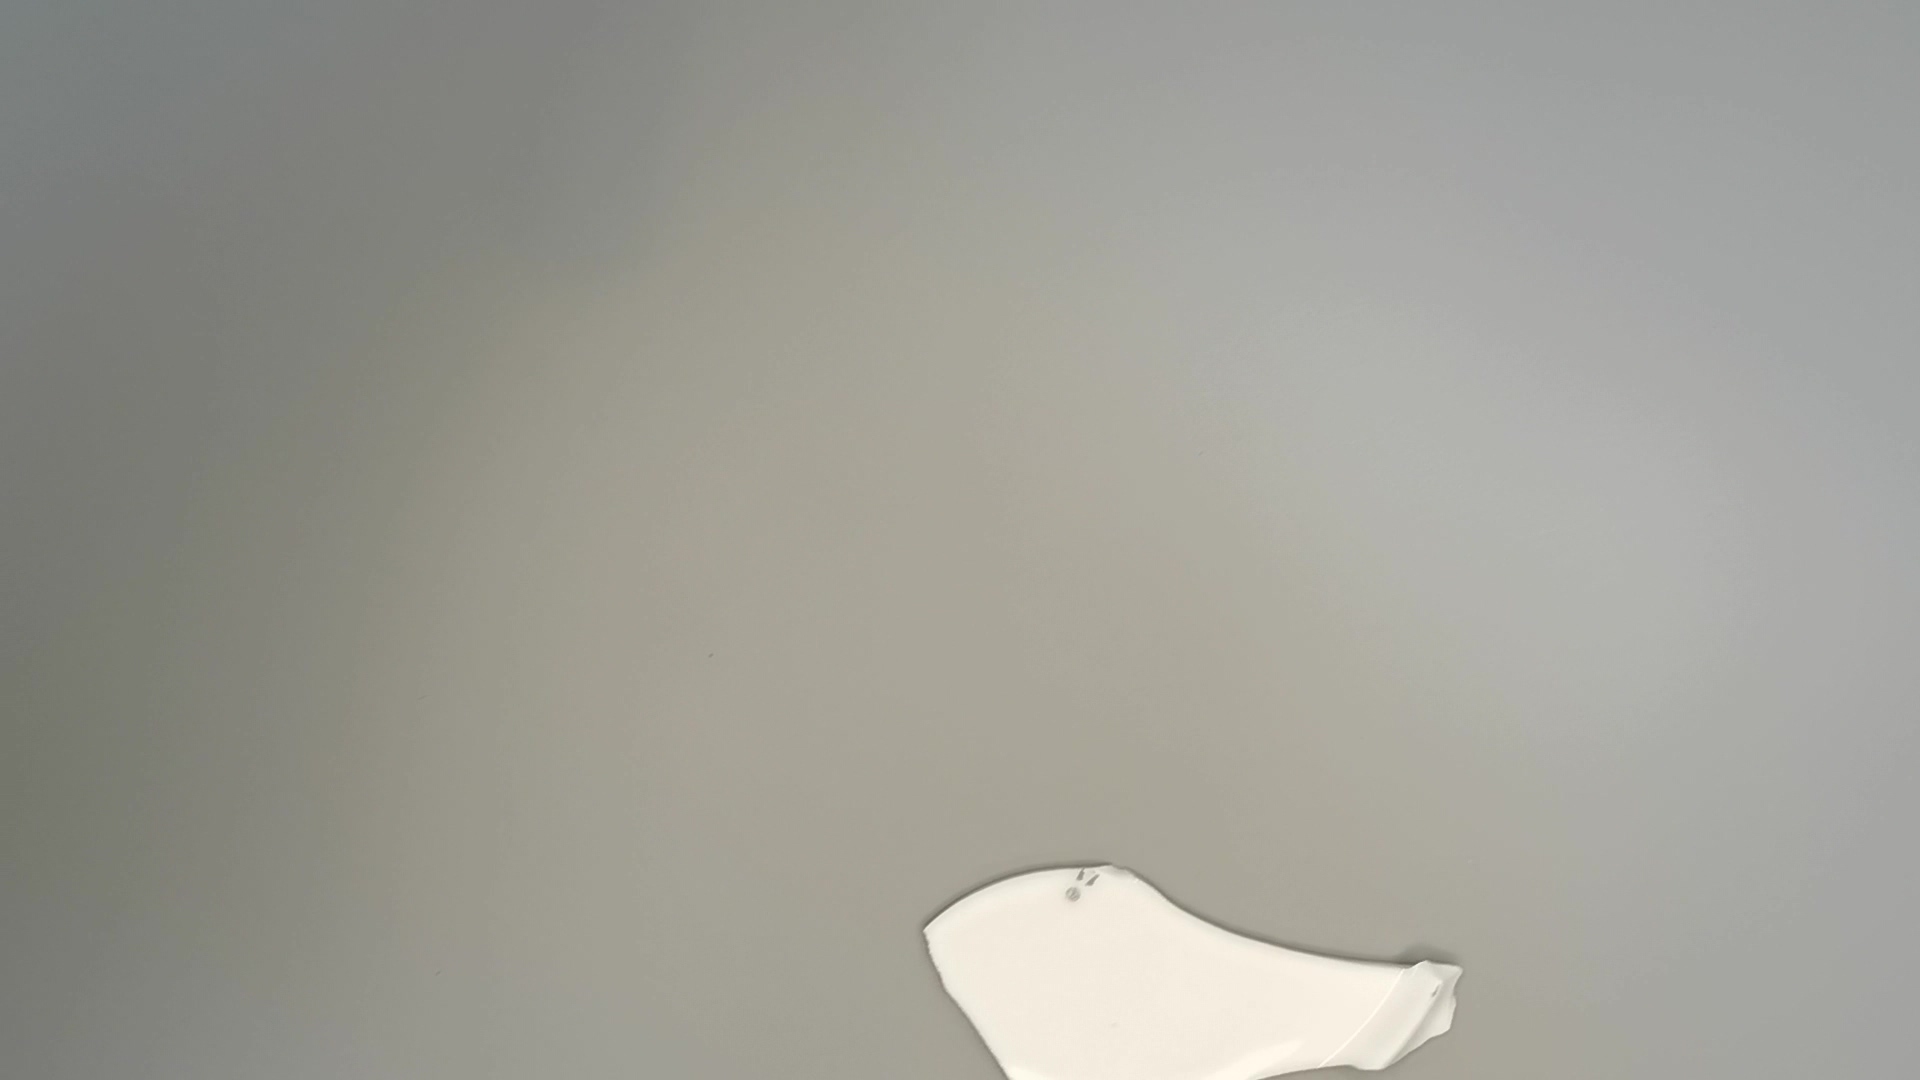ceramic: (919, 858, 1478, 1080)
